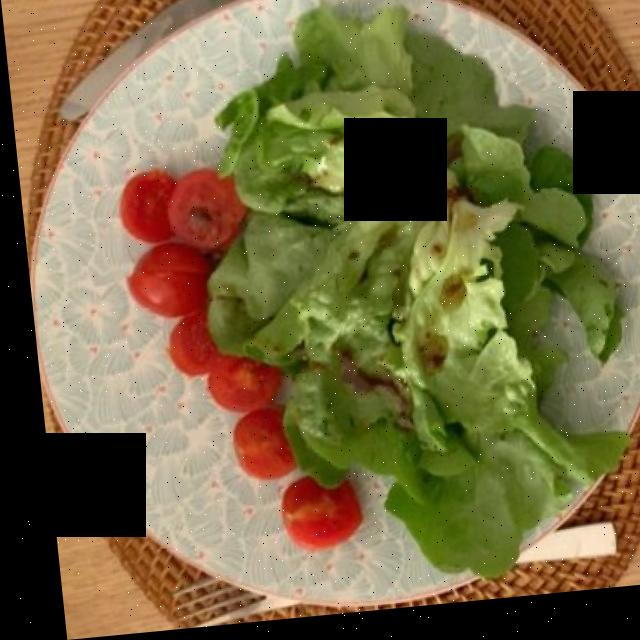salad-leaf-salad-green: (200, 26, 627, 591)
tomato-raw: (111, 178, 346, 567)
